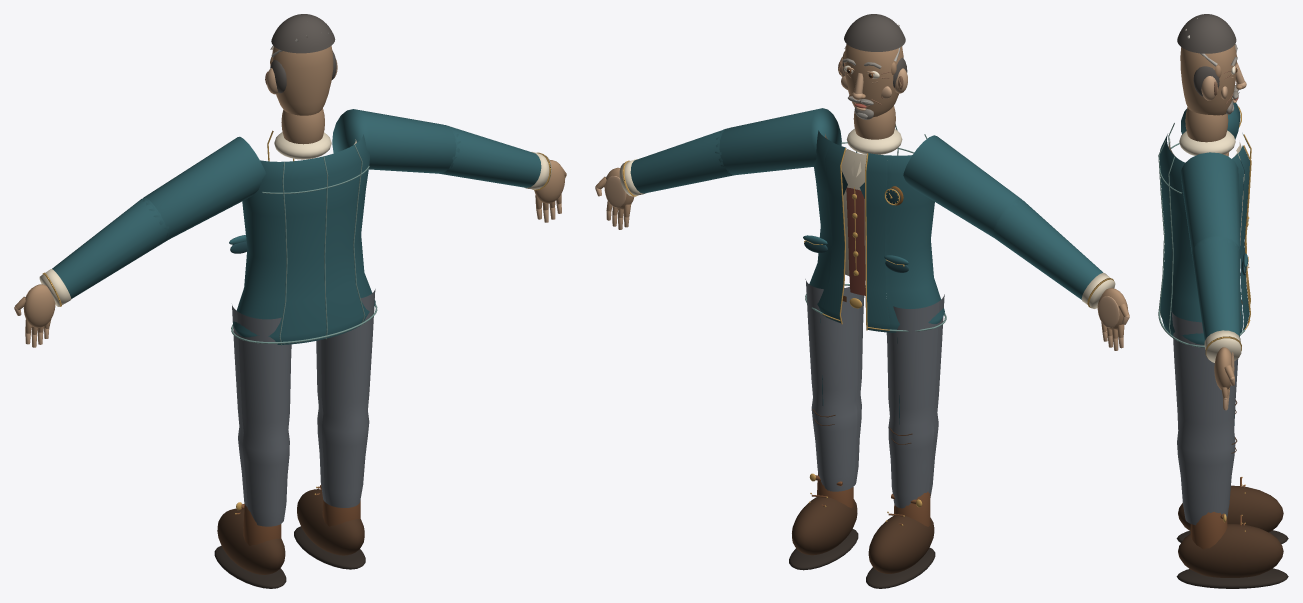
File: entry-03-r03.glb
3 views of the same model, side by side, from view 1: azimuth 30°, elevation 25°; view 2: azimuth 150°, elevation 25°; view 3: azimuth 270°, elevation 25° (orthographic). The views are drawn at different scales.
Visible parts, largest first — view 1: Coat | back and side shell, Left trouser | tapered leg, Right trouser | tapered leg, Left sleeve | upper arm, Right sleeve | upper arm, Left sleeve | forearm, Right sleeve | forearm, Head | sculpted face and skull, Left boot | rounded toe, Right boot | rounded toe, Hair | swept charcoal crown, Skin | neck (+6 smaller); view 2: Left trouser | tapered leg, Right trouser | tapered leg, Coat | back and side shell, Left sleeve | upper arm, Right sleeve | upper arm, Left sleeve | forearm, Right sleeve | forearm, Coat | right front facing, Left boot | rounded toe, Right boot | rounded toe, Coat | left front facing, Head | sculpted face and skull (+7 smaller); view 3: Right trouser | tapered leg, Coat | back and side shell, Right sleeve | upper arm, Right boot | rounded toe, Right sleeve | forearm, Head | sculpted face and skull, Left boot | rounded toe, Hair | swept charcoal crown, Right boot | layered sole, Skin | neck, Coat | left front facing, Right boot | ankle shaft (+10 smaller).
Boxes of the visible parts, left/top/right/bottom form: Coat | back and side shell: left=233, top=134, right=375, bottom=344; Left trouser | tapered leg: left=232, top=305, right=291, bottom=526; Right trouser | tapered leg: left=316, top=289, right=375, bottom=507; Left sleeve | upper arm: left=143, top=136, right=266, bottom=239; Right sleeve | upper arm: left=332, top=109, right=456, bottom=173; Left sleeve | forearm: left=52, top=198, right=169, bottom=298; Right sleeve | forearm: left=439, top=125, right=541, bottom=187; Head | sculpted face and skull: left=272, top=46, right=333, bottom=115; Left boot | rounded toe: left=217, top=508, right=285, bottom=574; Right boot | rounded toe: left=297, top=489, right=364, bottom=555; Hair | swept charcoal crown: left=271, top=14, right=335, bottom=53; Skin | neck: left=281, top=108, right=324, bottom=144; Left trouser | tapered leg: left=886, top=294, right=944, bottom=508; Right trouser | tapered leg: left=805, top=279, right=864, bottom=491; Coat | back and side shell: left=809, top=130, right=944, bottom=332; Left sleeve | upper arm: left=903, top=135, right=1021, bottom=237; Right sleeve | upper arm: left=719, top=108, right=841, bottom=174; Left sleeve | forearm: left=993, top=200, right=1102, bottom=299; Right sleeve | forearm: left=630, top=129, right=734, bottom=193; Coat | right front facing: left=866, top=153, right=889, bottom=332; Left boot | rounded toe: left=868, top=515, right=934, bottom=573; Right boot | rounded toe: left=792, top=497, right=857, bottom=555; Coat | left front facing: left=823, top=142, right=845, bottom=322; Head | sculpted face and skull: left=844, top=44, right=903, bottom=117; Right trouser | tapered leg: left=1171, top=311, right=1240, bottom=525; Coat | back and side shell: left=1159, top=134, right=1243, bottom=344; Right sleeve | upper arm: left=1181, top=152, right=1239, bottom=255; Right boot | rounded toe: left=1178, top=524, right=1283, bottom=577; Right sleeve | forearm: left=1192, top=238, right=1239, bottom=340; Head | sculpted face and skull: left=1180, top=45, right=1236, bottom=115; Left boot | rounded toe: left=1178, top=485, right=1283, bottom=532; Hair | swept charcoal crown: left=1177, top=14, right=1236, bottom=53; Right boot | layered sole: left=1176, top=568, right=1288, bottom=588; Skin | neck: left=1185, top=107, right=1228, bottom=142; Coat | left front facing: left=1238, top=145, right=1249, bottom=330; Right boot | ankle shaft: left=1190, top=511, right=1227, bottom=549.
Size of the model in its own units: 2.01 by 1.94 by 0.4189.
